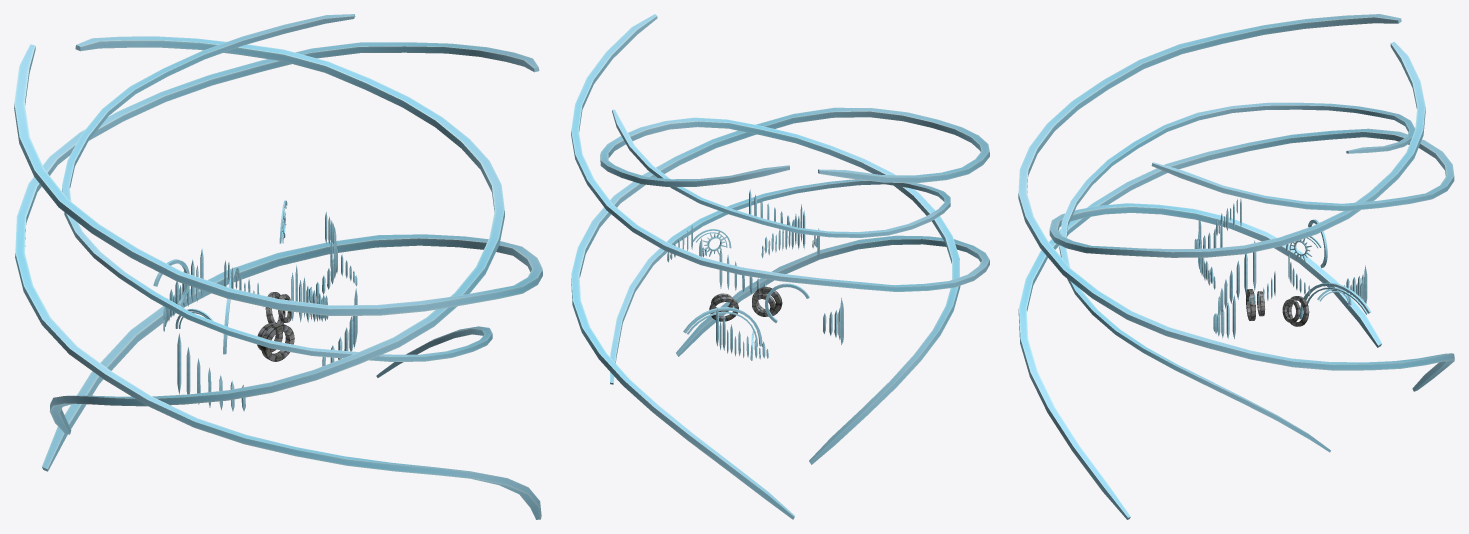
File: Wonderful_Decoration.fbx
3 views of the same model, side by side, from view 1: azimuth 30°, elevation 25°; view 2: azimuth 150°, elevation 25°; view 3: azimuth 270°, elevation 25° (orthographic). The views are drawn at different scales.
Visible parts, largest first — view 1: Circle.014, Circle.013, Cube.023, Sphere.036; view 2: Circle.014, Circle.013, Cube.023, Sphere.036; view 3: Circle.014, Circle.013, Cube.023, Sphere.036.
Part boxes in pixels (box(x1,y1,x2,y2)): Circle.014: box(14, 42, 542, 519); Circle.013: box(49, 14, 504, 434); Cube.023: box(153, 200, 357, 411); Sphere.036: box(257, 292, 294, 361); Circle.014: box(571, 14, 989, 519); Circle.013: box(600, 109, 960, 464); Cube.023: box(667, 189, 843, 360); Sphere.036: box(709, 287, 782, 321); Circle.014: box(1018, 14, 1454, 519); Circle.013: box(1049, 42, 1425, 452); Cube.023: box(1194, 198, 1371, 338); Sphere.036: box(1246, 289, 1309, 326).
Size of the model in its own units: 486 by 446 by 486.
